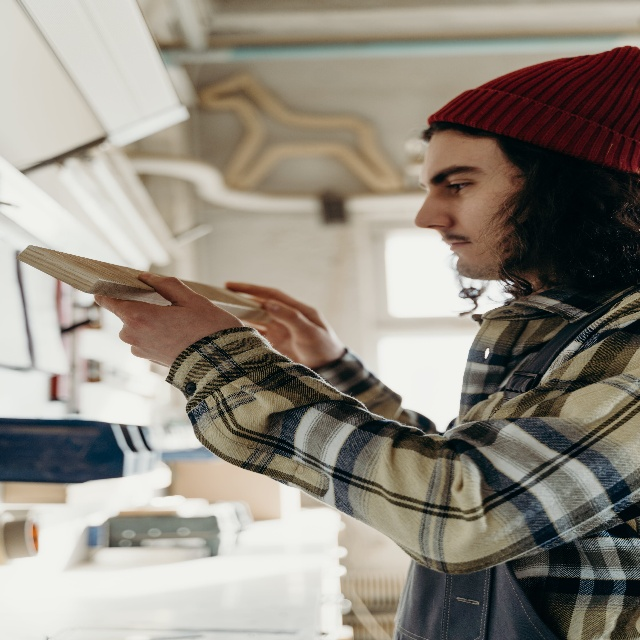Sin_guantes: (95, 271, 239, 366), (228, 277, 341, 366)
